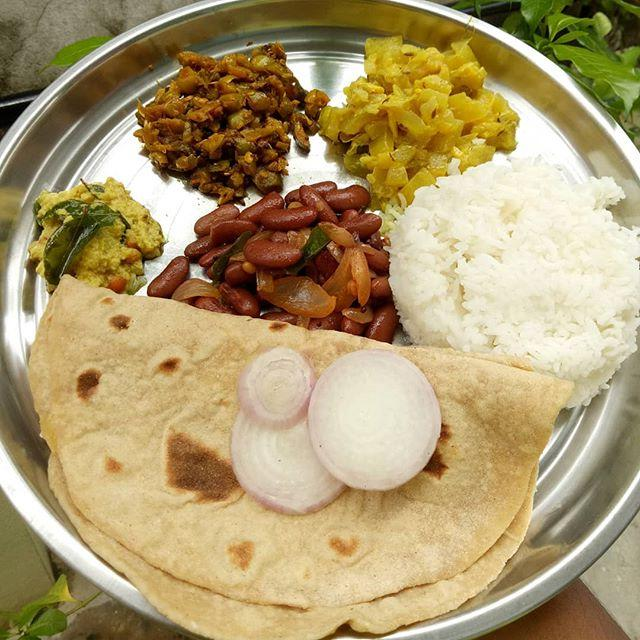Lobia Curry: (183, 179, 387, 334)
Roti: (0, 271, 588, 622)
White Rice: (392, 143, 638, 391)
